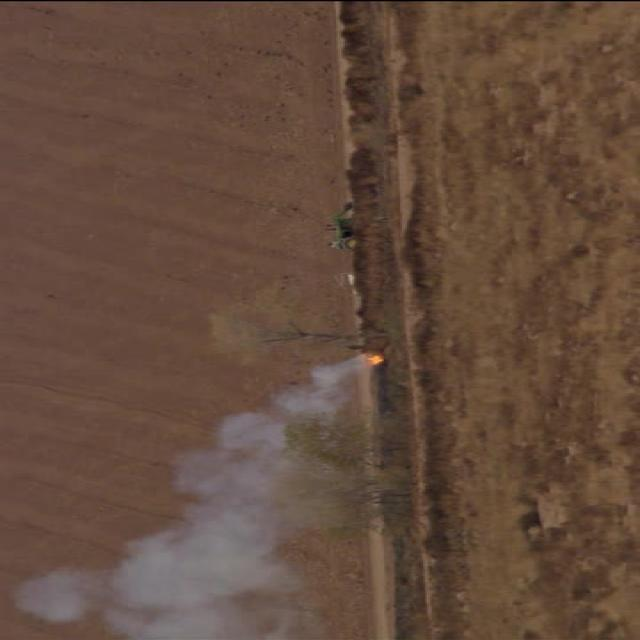Fire: (361, 351, 386, 368)
